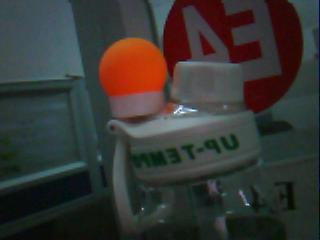oball: (98, 38, 168, 95)
